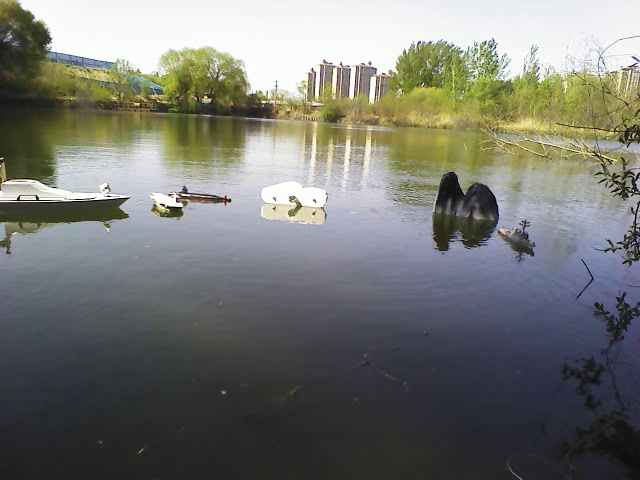aircraft_carrier: (150, 187, 185, 214)
boat: (5, 169, 130, 224)
iceberg: (259, 178, 334, 211)
rock: (433, 167, 499, 222)
submarine: (176, 188, 235, 202)
warship: (498, 219, 541, 253)
